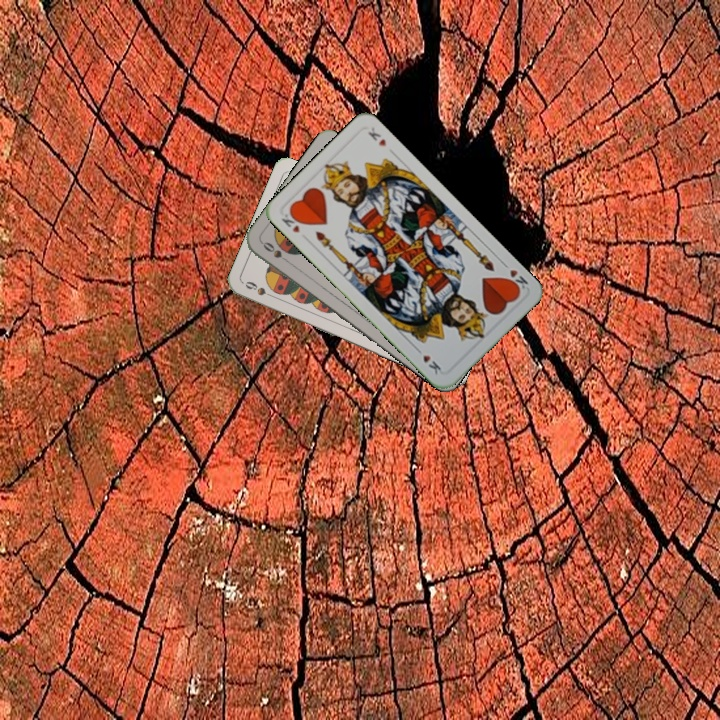HK: (502, 265, 531, 295), (277, 206, 304, 236)
S9: (241, 277, 279, 301)
SO: (258, 238, 293, 266)
